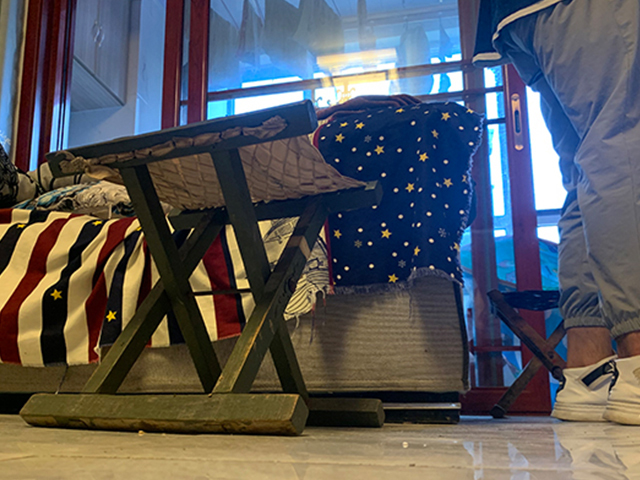sofa: (1, 95, 484, 425)
stool: (18, 99, 385, 436), (488, 288, 566, 418)
